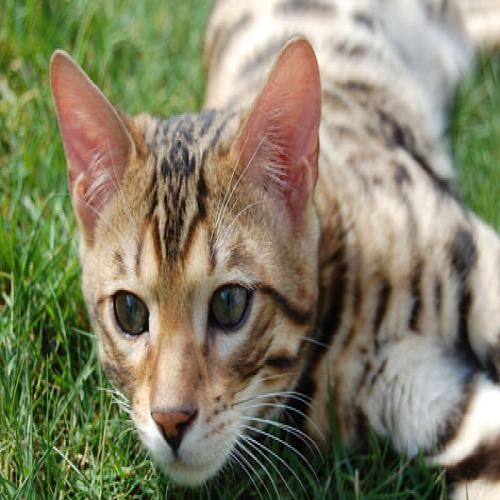bengal: (47, 33, 334, 499)
